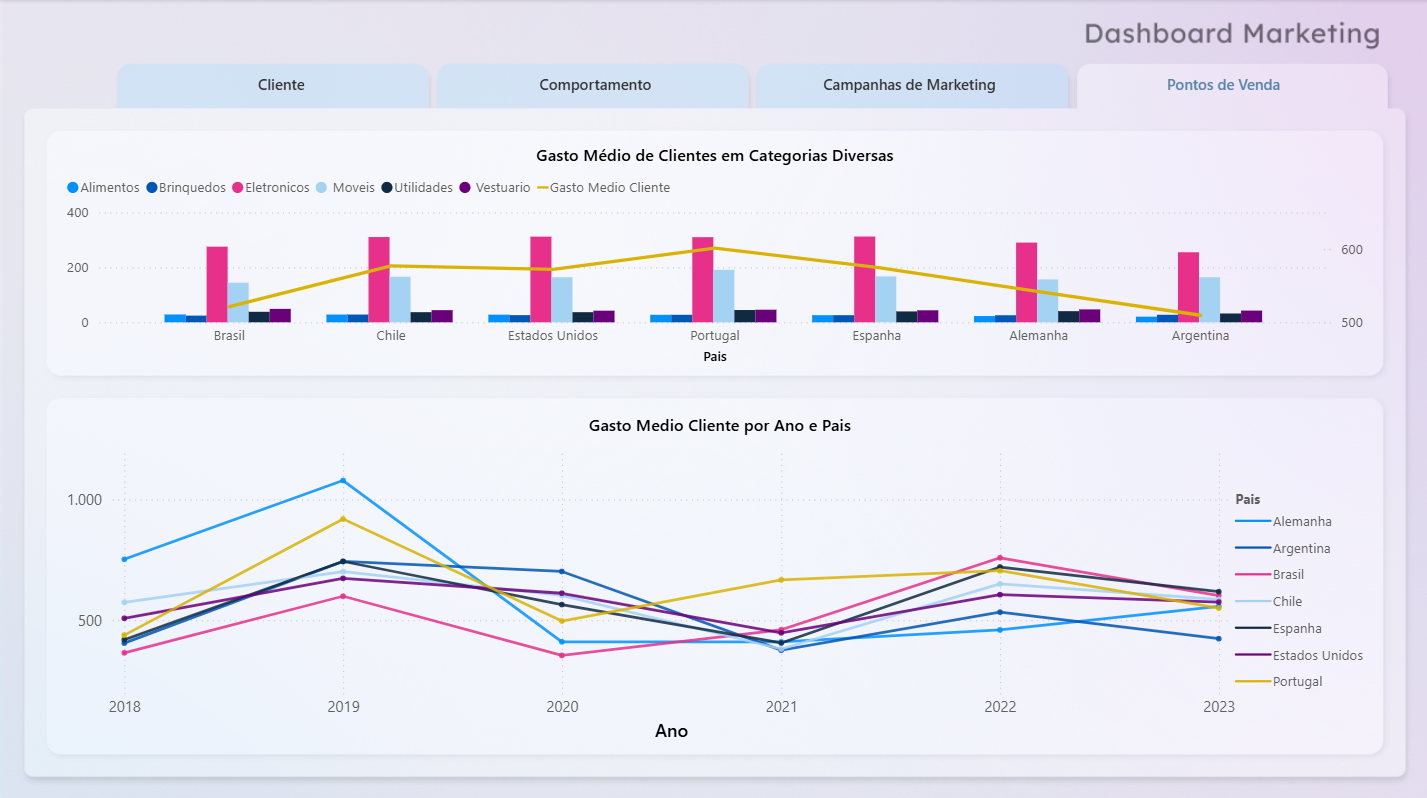

What the dashboard file says about the page in this screenshot:
{"tool":"powerbi","page":{"name":"Pontos de Venda","canvas":[1280,720],"ordinal":3},"visuals":[{"type":"lineClusteredColumnComboChart","title":"Gasto Médio de Clientes em Categorias Diversas","fields":{"Category":["DadosMarketing.Pais"],"Y":["Avg(DadosMarketing.Gasto com Alimentos)","Avg(DadosMarketing.Gasto com Brinquedos)","Avg(DadosMarketing.Gasto com Eletronicos)","Avg(DadosMarketing.Gasto com Moveis)","Avg(DadosMarketing.Gasto com Utilidades)","Avg(DadosMarketing.Gasto com Vestuario)"],"Y2":["DadosMarketing.Gasto Medio Cliente"]},"box":[44.9,169.9,1188.6,206.1],"z":0},{"type":"lineChart","fields":{"Y":["DadosMarketing.Gasto Medio Cliente"],"Category":["DadosMarketing.Data Cadastro.Variation.Hierarquia de datas.Ano"],"Series":["DadosMarketing.Pais"]},"box":[44.9,389.9,1198.1,286.4],"z":1000},{"type":"pageNavigator","box":[99.2,109.5,1134.2,48.3],"z":2000}]}

Visuals, with their boxes in screenshot pixels (x1, y1, x2, y2), scaled from the page's 1280x720 canvas onto the 1427x798 screenshot:
"Gasto Médio de Clientes em Categorias Diversas" lineClusteredColumnComboChart: bbox=(50, 188, 1375, 417)
lineChart - DadosMarketing.Gasto Medio Cliente x DadosMarketing.Data Cadastro.Variation.Hierarquia de datas.Ano: bbox=(50, 432, 1386, 750)
pageNavigator: bbox=(111, 121, 1375, 175)
